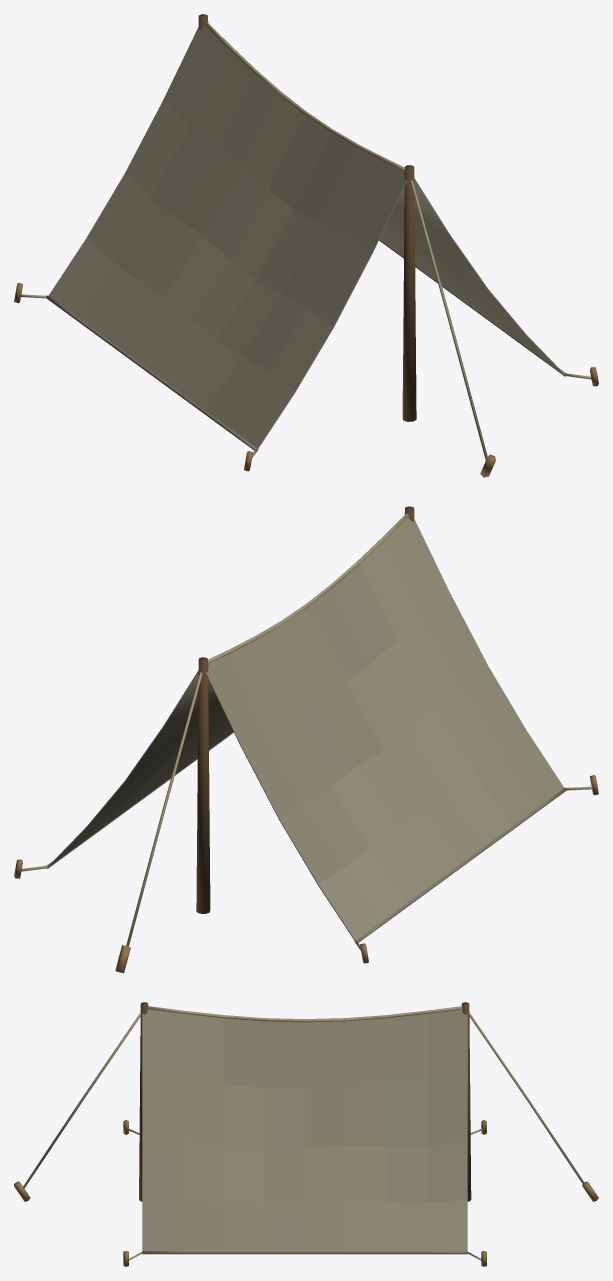
File: hemp_ridge_tent_lod0.glb
The picture shows the model from 3 angles, top to bottom: view 1: azimuth 30°, elevation 25°; view 2: azimuth 150°, elevation 25°; view 3: azimuth 270°, elevation 25°; orthographic projection. The views are drawn at different scales.
Parts seen in each view (by area): view 1: hemp_ridge_tent; view 2: hemp_ridge_tent; view 3: hemp_ridge_tent.
Boxes of the visible parts, bbox=[...] form: hemp_ridge_tent: bbox=[14, 14, 598, 477]; hemp_ridge_tent: bbox=[14, 506, 598, 973]; hemp_ridge_tent: bbox=[14, 1002, 598, 1266].
Bounding box in the file's own units: 2.94 × 2.01 × 5.39.
